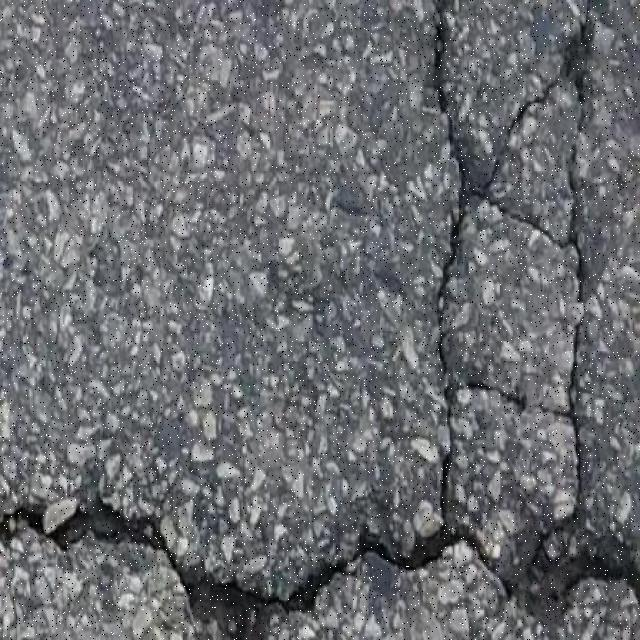Crack: (434, 4, 591, 524), (492, 329, 640, 633), (0, 499, 280, 640), (284, 528, 482, 614)
